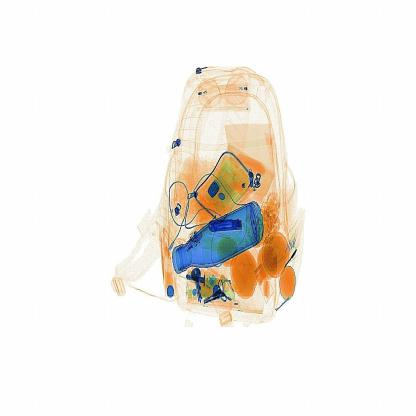knife: (207, 207, 256, 249)
